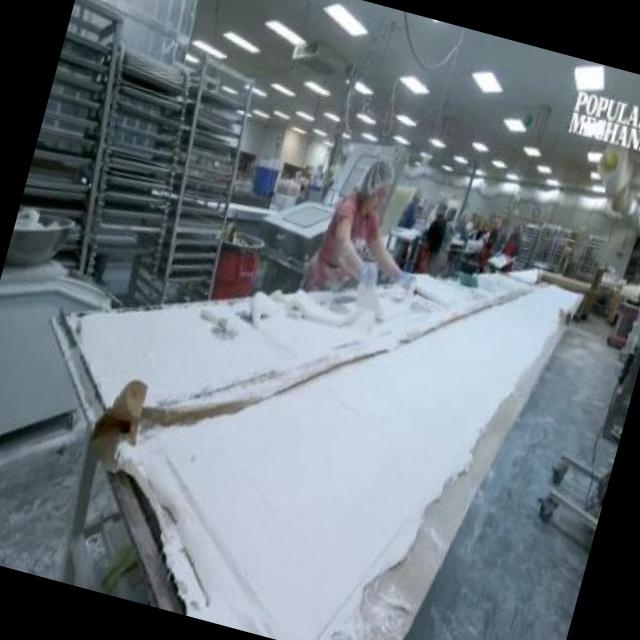hairnet: (358, 154, 398, 192)
